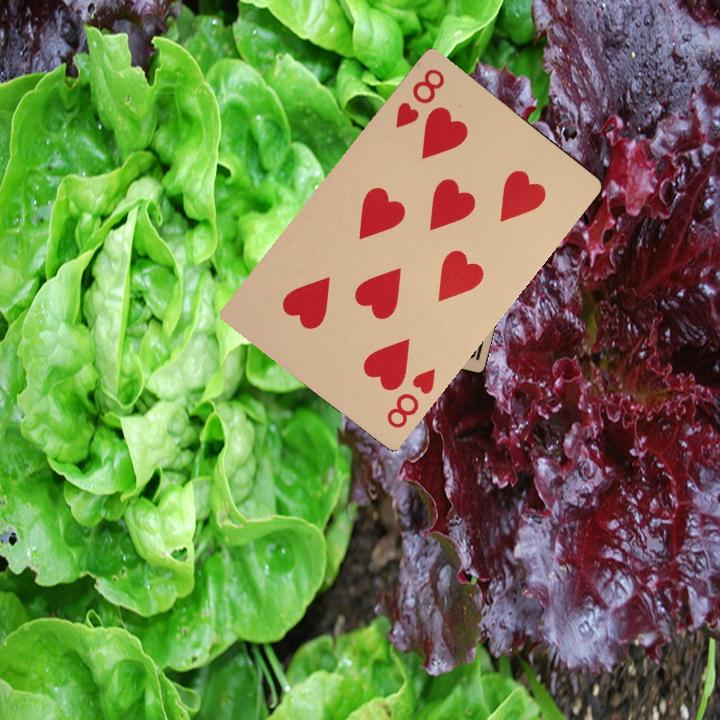8h: (391, 64, 447, 131), (382, 365, 438, 431)
